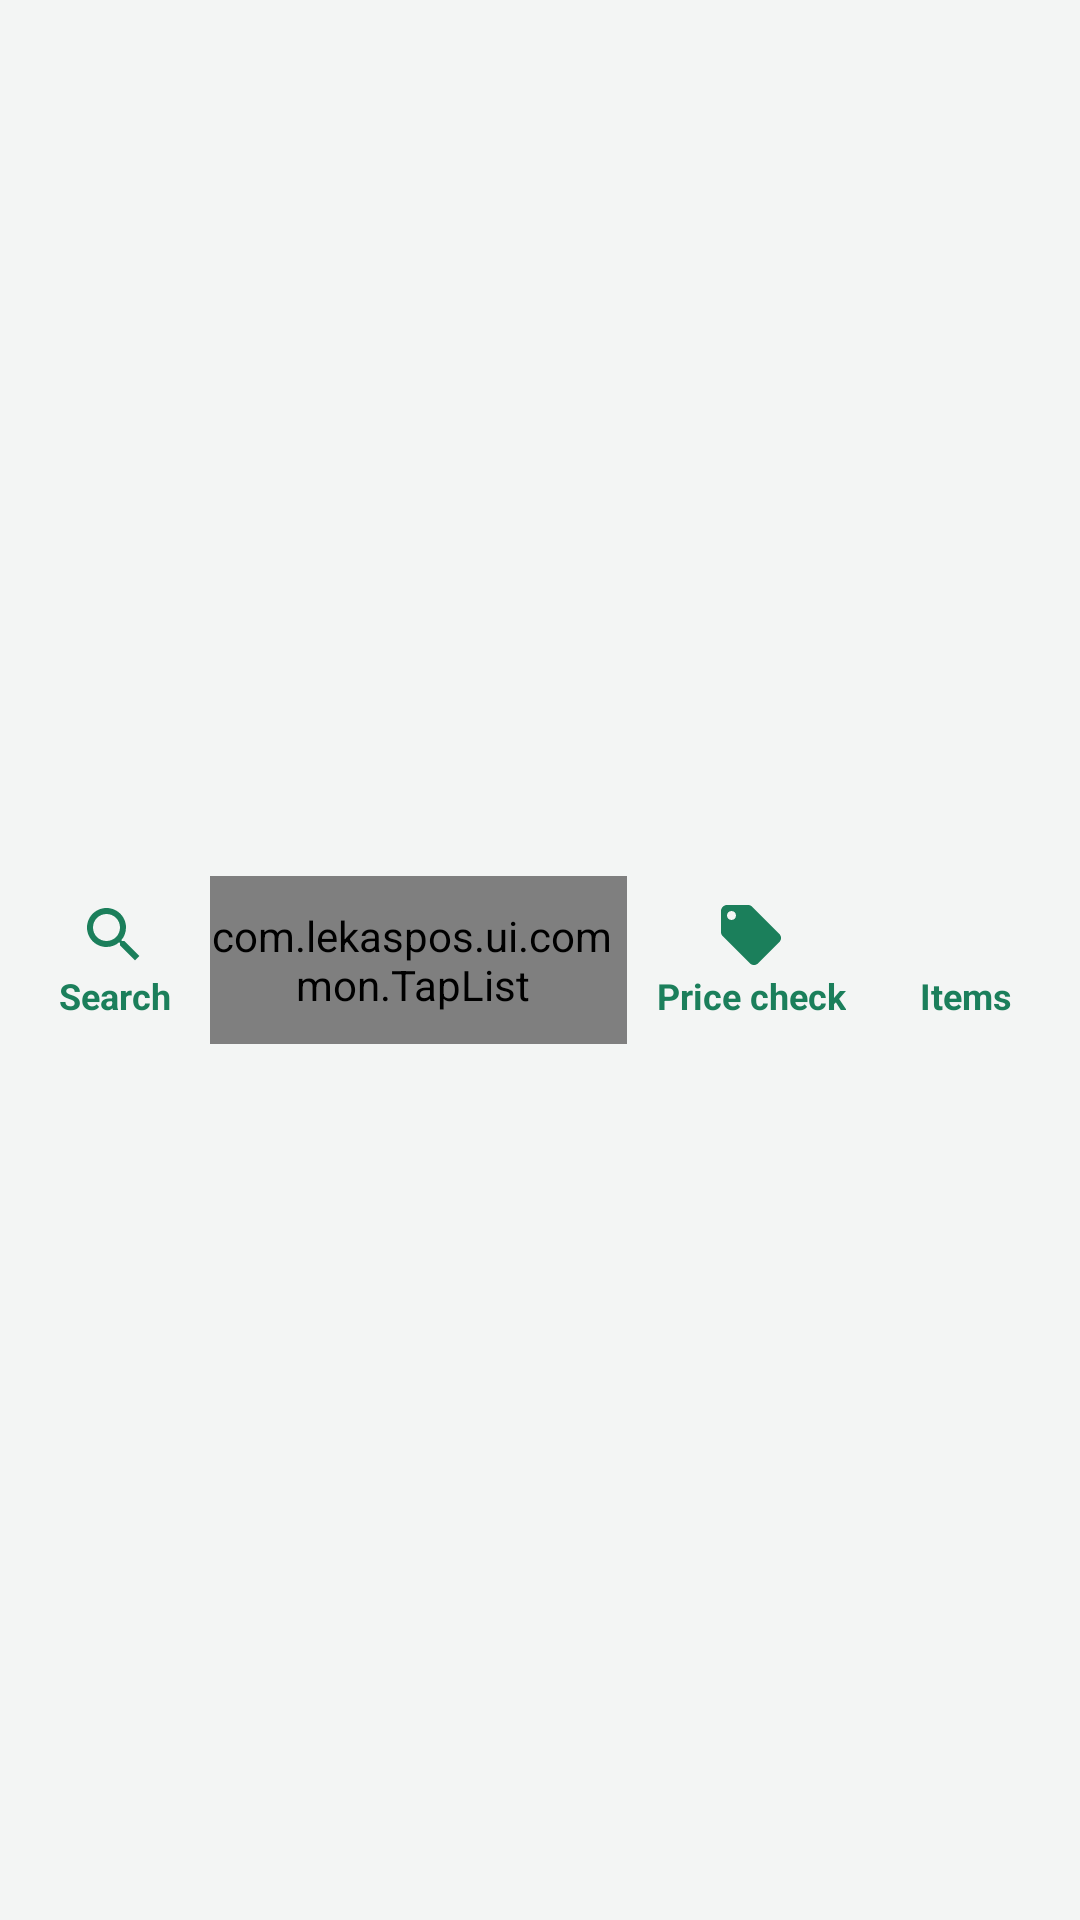

Icons on this 1080px x 1920px Android screen, each with the point to tap as (x=x, y=y):
tag: (x=751, y=935)
